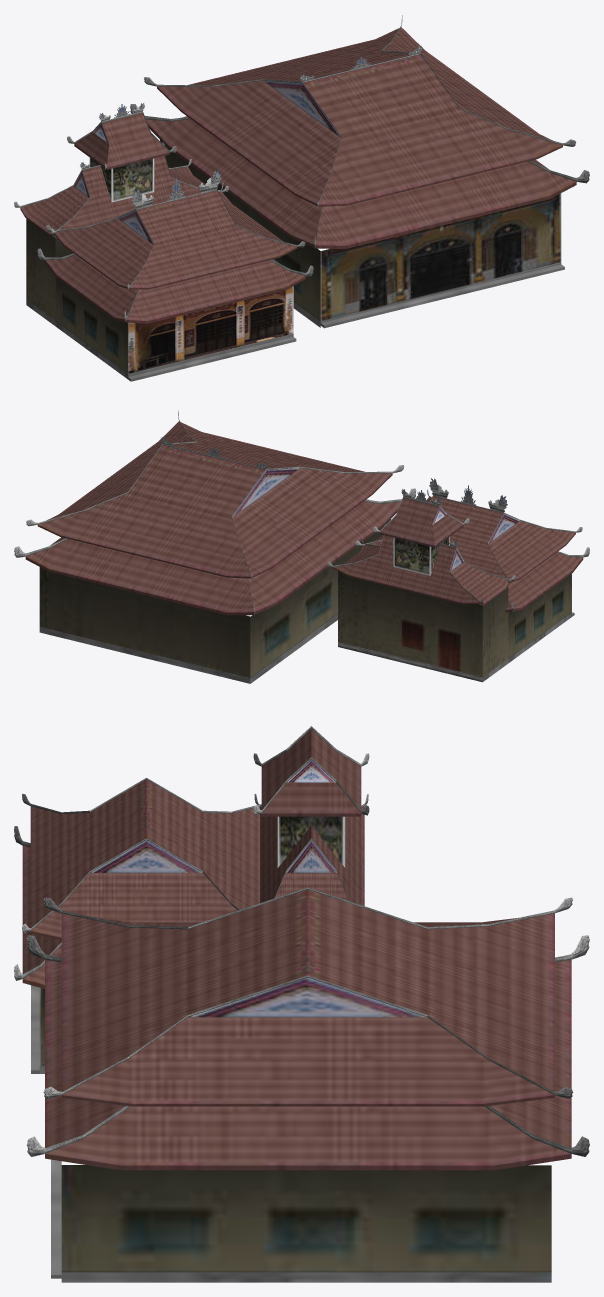
3 renders of one model, top to bottom at view 1: azimuth 30°, elevation 25°; view 2: azimuth 150°, elevation 25°; view 3: azimuth 270°, elevation 25°, orthographic. The views are drawn at different scales.
Parts seen in each view (by area): view 1: 5db0212668789d138cbebcfd.001; view 2: 5db0212668789d138cbebcfd.001; view 3: 5db0212668789d138cbebcfd.001.
Part boxes in pixels (x1,y1,x2,y2): 5db0212668789d138cbebcfd.001: [14, 15, 589, 381]; 5db0212668789d138cbebcfd.001: [14, 410, 589, 683]; 5db0212668789d138cbebcfd.001: [14, 726, 589, 1282].
Size of the model in its own units: 15.83 by 6.21 by 11.03.
Materials: 1 (1 with a texture image).
